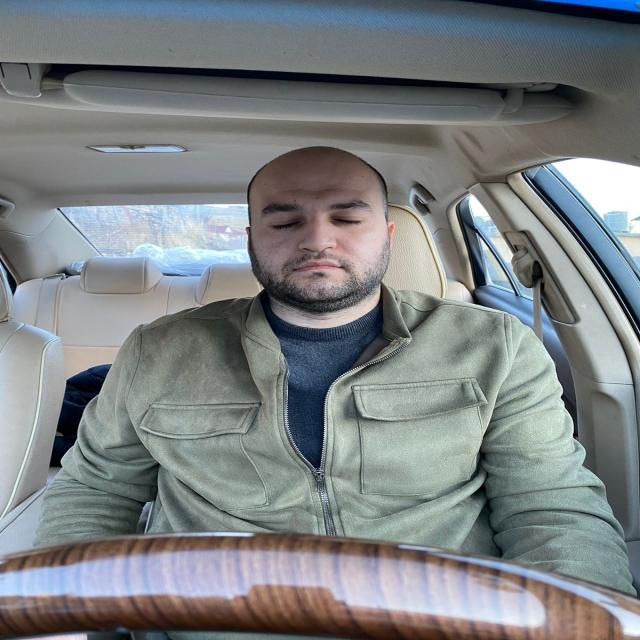drowsy: (246, 154, 390, 301)
